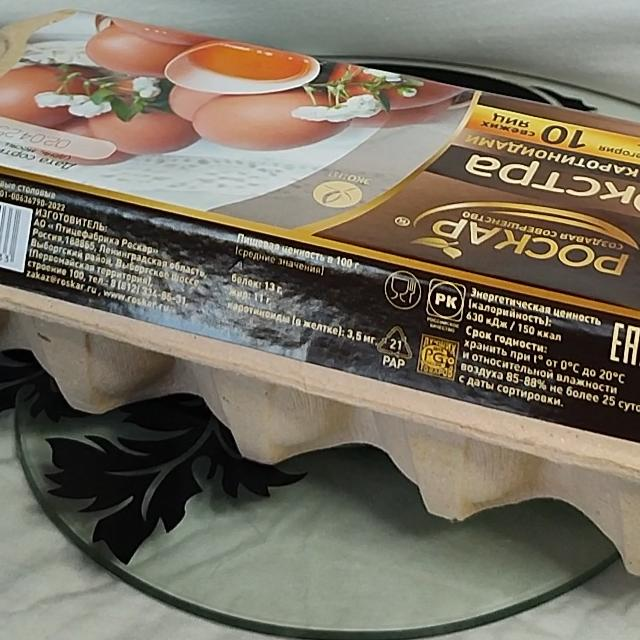egg: (0, 0, 640, 583)
